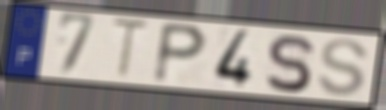4: (211, 26, 256, 92)
7: (52, 11, 98, 80)
P: (150, 19, 211, 86)
S: (315, 37, 372, 99), (264, 32, 316, 94)
T: (108, 16, 153, 83)
